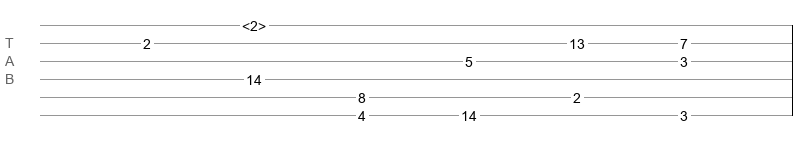13: (569, 36, 585, 46)
14: (246, 72, 262, 82), (461, 108, 477, 118)
2: (143, 36, 151, 46), (573, 90, 581, 100)
3: (680, 54, 688, 64), (680, 108, 688, 118)
4: (358, 108, 366, 118)
5: (465, 54, 473, 64)
7: (680, 36, 688, 46)
8: (358, 90, 366, 100)
harmonic: (242, 18, 266, 28)
